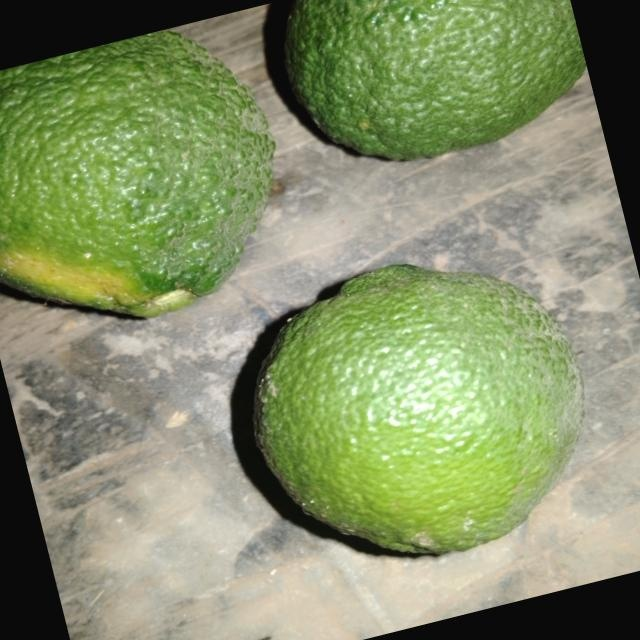agrume: (208, 217, 624, 604), (0, 8, 318, 366), (258, 0, 600, 197)
